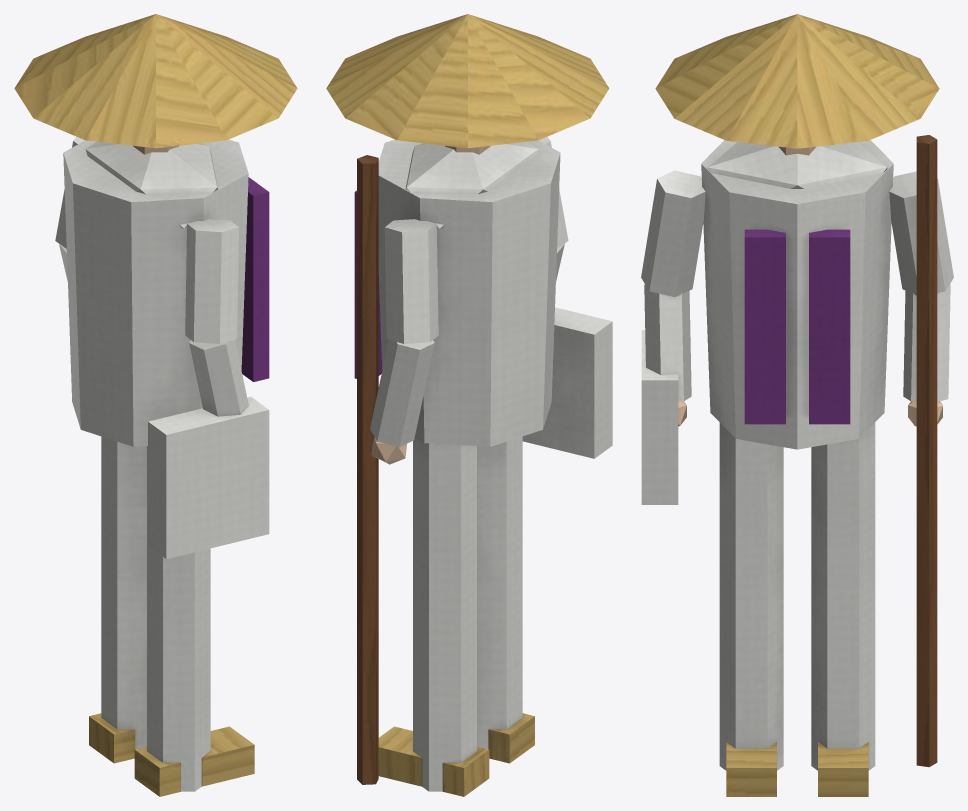
Rendered from pilgrim_tex.glb.
3 renders of one model, left to right at view 1: azimuth 30°, elevation 25°; view 2: azimuth 150°, elevation 25°; view 3: azimuth 270°, elevation 25°, orthographic.
Visible parts, largest first — view 1: pilgrim; view 2: pilgrim; view 3: pilgrim.
Boxes of the visible parts, x1=… form: pilgrim: x1=14, y1=14, x2=297, y2=796; pilgrim: x1=326, y1=14, x2=612, y2=796; pilgrim: x1=641, y1=14, x2=953, y2=796.
Size of the model in its own units: 0.62 by 1.81 by 0.6826.
Materials: 7 (6 with a texture image).
